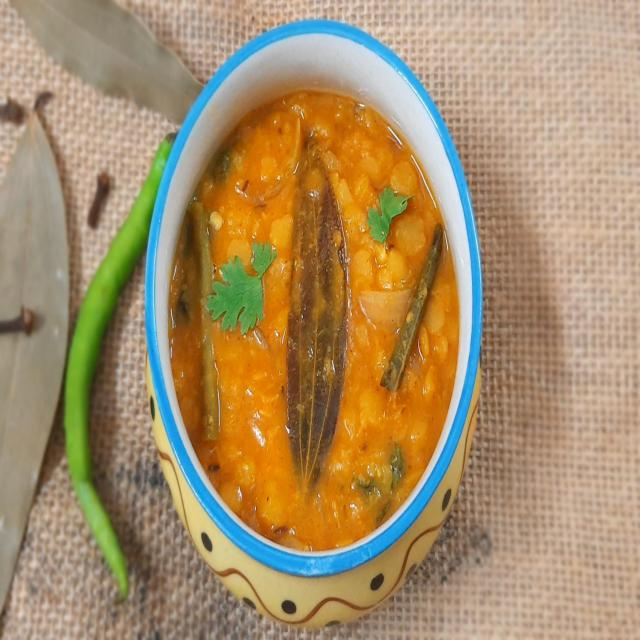dal: (177, 87, 462, 514)
